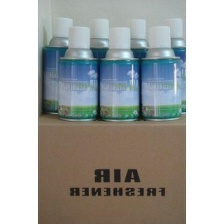aerosol_cans: (93, 24, 144, 124), (55, 23, 103, 124), (137, 23, 184, 124), (38, 13, 83, 117)
